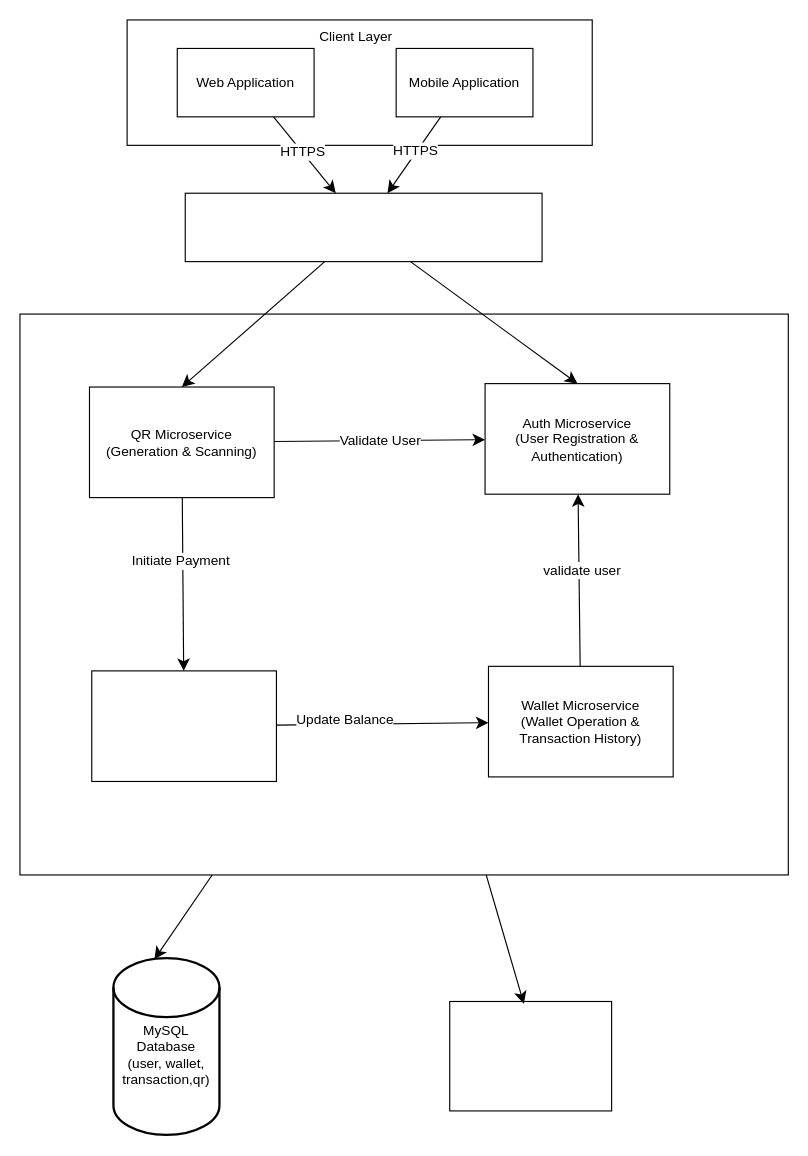
This 808x1156 diagram has some shape labels left out. The shapes that lost their labels are listed below. From the top down, each one's centre as x and y in pixels, then its label:
At (x=363, y=227): "API Gateway Layer (Request Routing)".
At (x=183, y=725): "Payment Processing (Transaction Processing & Payment Gateway Integration)".
At (x=530, y=1055): "Payment Gateway (Paypal / Stripe)".
